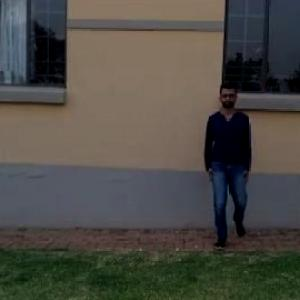follow: (206, 79, 255, 245)
